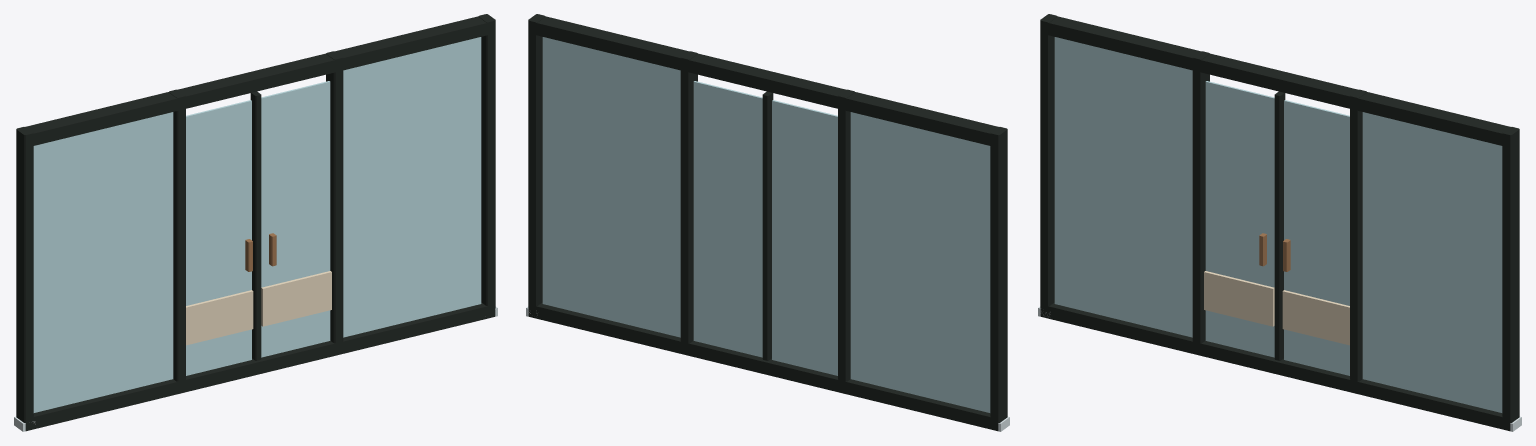
The model's file is gh_glass_partition_v01.glb.
3 views of the same model, side by side, from view 1: azimuth 30°, elevation 25°; view 2: azimuth 150°, elevation 25°; view 3: azimuth 330°, elevation 25° (orthographic).
Parts seen in each view (by area): view 1: partition; view 2: partition; view 3: partition.
Part boxes in pixels (x1,y1,x2,y2): partition: (14, 14, 497, 431); partition: (526, 14, 1009, 431); partition: (1038, 14, 1521, 431).
Size of the model in its own units: 6.04 by 3.6 by 0.25.
Materials: 2 (1 with a texture image).
